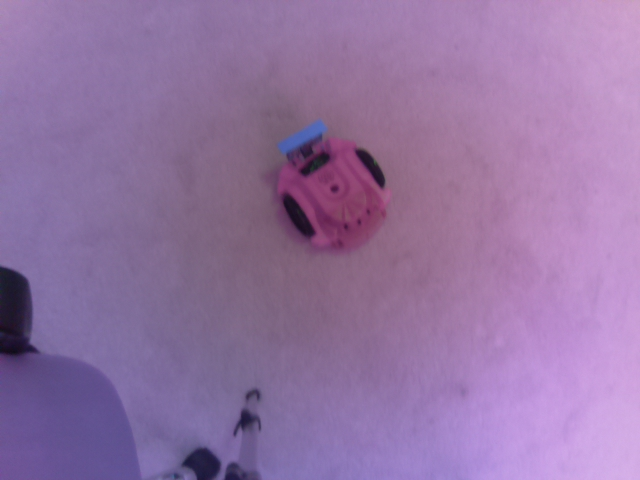board: (273, 121, 329, 160)
chassis: (268, 119, 403, 253)
